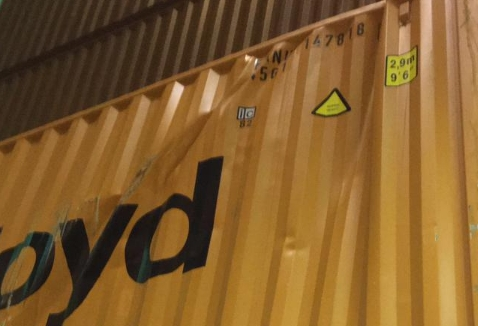bulged: (72, 34, 334, 248)
